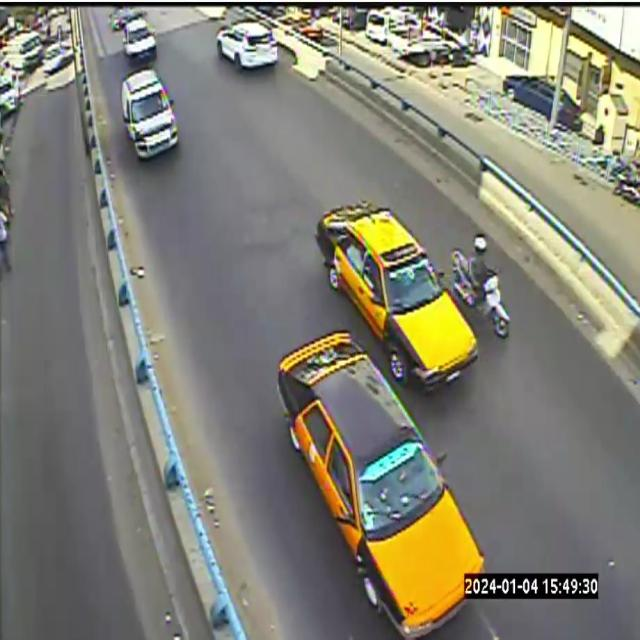car: (278, 332, 483, 639), (316, 201, 477, 387), (122, 67, 177, 157), (216, 21, 278, 70), (123, 19, 156, 59)
